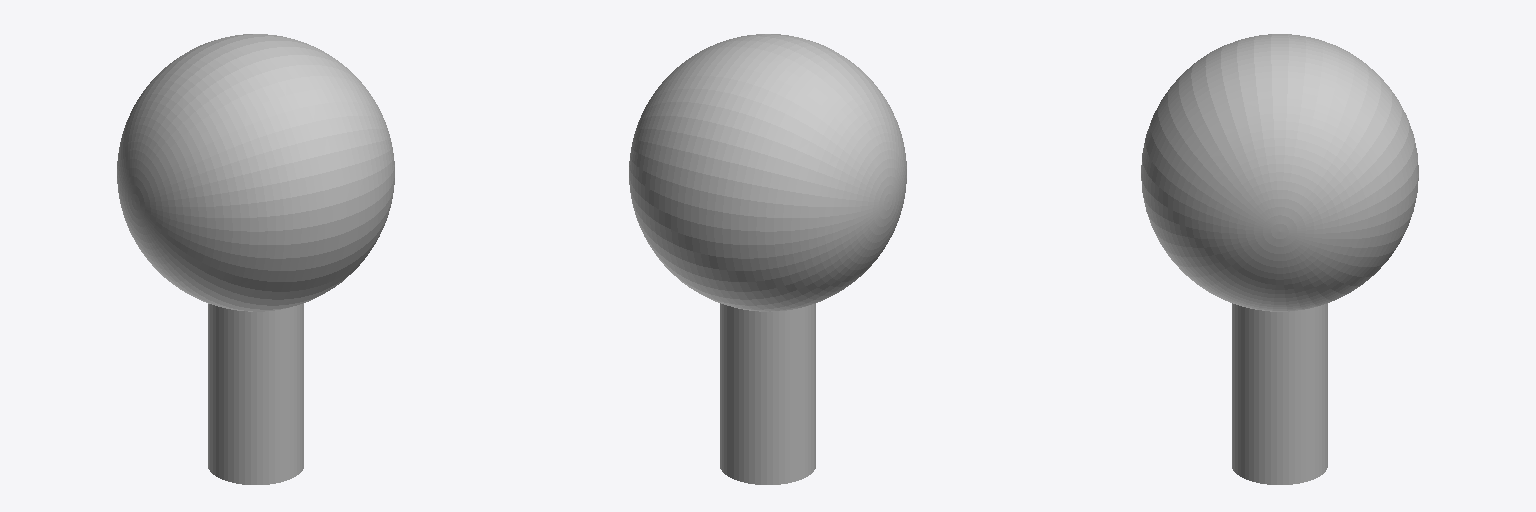
Rendered from Tr-SliderYBoule.obj.
3 views of the same model, side by side, from view 1: azimuth 30°, elevation 25°; view 2: azimuth 150°, elevation 25°; view 3: azimuth 270°, elevation 25° (orthographic).
Visible parts, largest first — view 1: Tr-SliderYBoule_Slider.002_Cube.005; view 2: Tr-SliderYBoule_Slider.002_Cube.005; view 3: Tr-SliderYBoule_Slider.002_Cube.005.
Part boxes in pixels (bbox=[...]): Tr-SliderYBoule_Slider.002_Cube.005: bbox=[117, 34, 394, 484]; Tr-SliderYBoule_Slider.002_Cube.005: bbox=[629, 34, 906, 484]; Tr-SliderYBoule_Slider.002_Cube.005: bbox=[1141, 34, 1418, 484].
Size of the model in its own units: 0.0259 by 0.0429 by 0.0259.